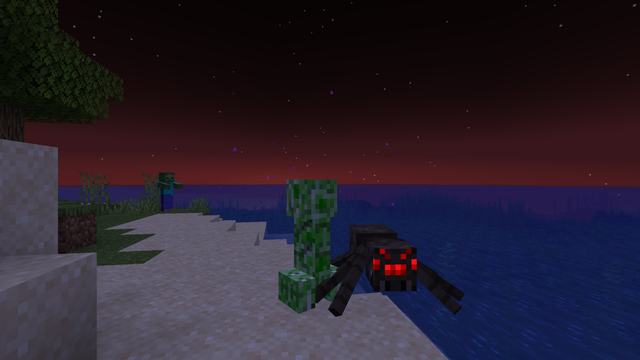araignees: (339, 220, 457, 322)
creepers: (288, 173, 337, 310)
zombies: (158, 173, 175, 211)
